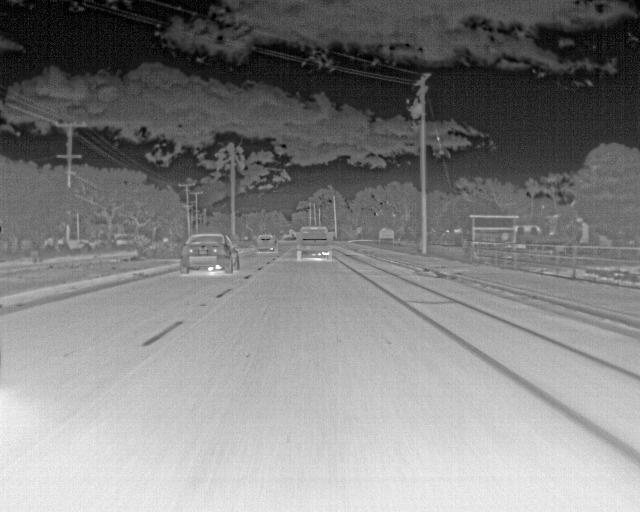car: (182, 233, 241, 275), (294, 225, 334, 264), (255, 233, 275, 253)
